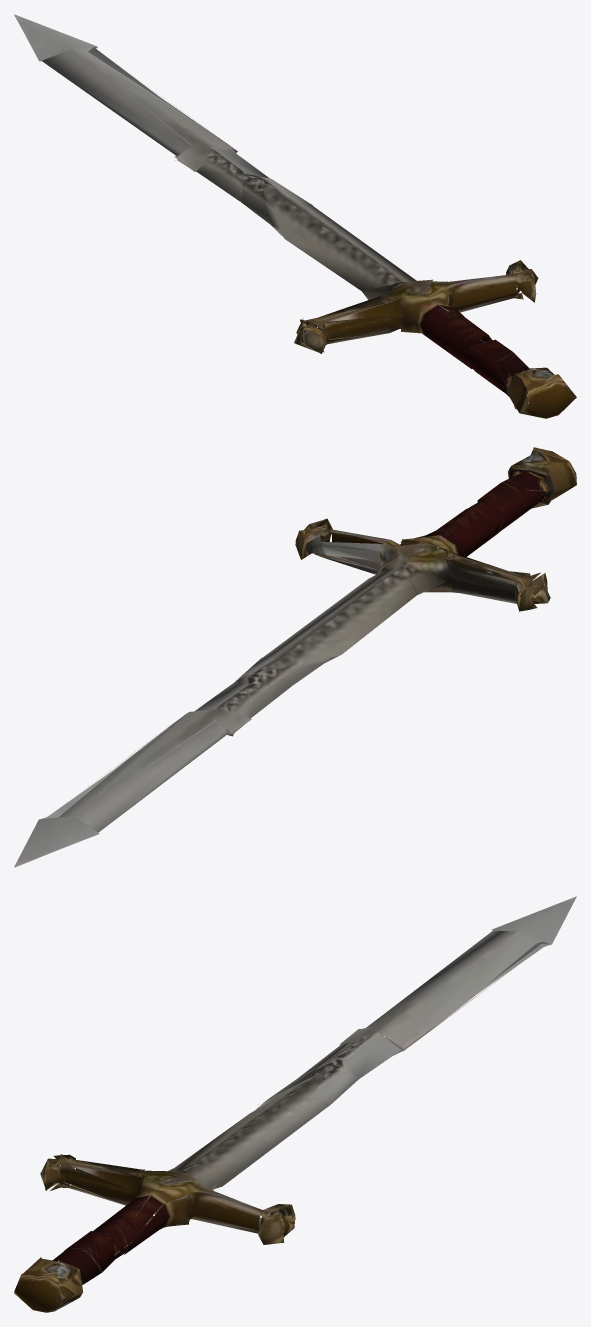
The model's file is claymore_lod1.fbx.
3 views of the same model, one above another, from view 1: azimuth 30°, elevation 25°; view 2: azimuth 150°, elevation 25°; view 3: azimuth 330°, elevation 25° (orthographic). The views are drawn at different scales.
Parts seen in each view (by area): view 1: tripo_node_60ca4aaa-a22a-4c67-b03f-131f0140f9e9; view 2: tripo_node_60ca4aaa-a22a-4c67-b03f-131f0140f9e9; view 3: tripo_node_60ca4aaa-a22a-4c67-b03f-131f0140f9e9.
Boxes of the visible parts, x1,y1,x2,y2 form: tripo_node_60ca4aaa-a22a-4c67-b03f-131f0140f9e9: (14, 14, 576, 418); tripo_node_60ca4aaa-a22a-4c67-b03f-131f0140f9e9: (14, 447, 576, 867); tripo_node_60ca4aaa-a22a-4c67-b03f-131f0140f9e9: (14, 896, 576, 1312).
Size of the model in its own units: 0.4677 by 0.0808 by 1.76.
